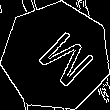M_SW: (22, 23, 90, 91)
